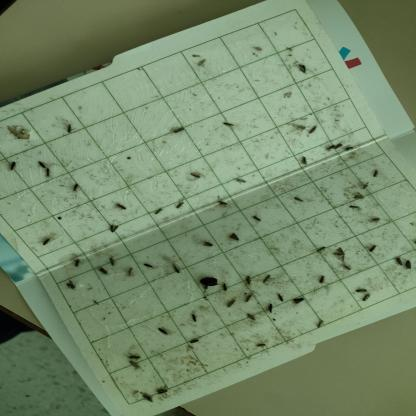prays_oleae: (214, 191, 231, 217), (290, 290, 312, 310), (136, 386, 156, 408), (332, 240, 347, 267), (310, 238, 328, 260), (222, 293, 239, 316), (151, 198, 166, 224), (253, 332, 269, 356), (220, 119, 242, 136), (154, 381, 171, 403), (237, 172, 251, 198), (140, 259, 160, 276), (115, 192, 128, 218), (64, 274, 77, 300), (40, 229, 54, 253), (69, 180, 84, 202), (390, 249, 404, 272), (124, 261, 138, 284), (202, 235, 218, 255), (126, 345, 144, 362), (127, 356, 142, 376), (185, 336, 201, 354), (244, 290, 258, 310), (157, 322, 171, 342), (188, 170, 202, 190), (97, 262, 111, 282), (171, 257, 183, 280), (354, 282, 372, 297), (245, 306, 260, 324), (340, 260, 354, 279), (250, 210, 264, 229), (305, 119, 318, 139), (106, 252, 119, 272), (228, 230, 242, 248), (175, 194, 187, 215), (108, 220, 121, 239), (370, 160, 381, 182), (366, 238, 378, 258), (8, 155, 17, 181), (330, 140, 349, 152), (313, 314, 325, 333), (352, 189, 366, 205), (315, 275, 331, 289), (342, 146, 360, 158), (260, 270, 272, 288), (367, 215, 382, 229), (64, 120, 75, 139), (171, 122, 188, 134), (72, 254, 83, 272), (188, 310, 200, 326), (244, 273, 255, 290), (297, 153, 311, 166), (219, 276, 229, 294), (295, 63, 307, 78), (294, 193, 305, 209), (264, 300, 275, 316), (345, 203, 362, 213), (360, 292, 372, 306), (38, 157, 46, 176), (42, 167, 53, 180), (277, 290, 285, 307), (327, 142, 334, 156), (362, 178, 370, 190)
